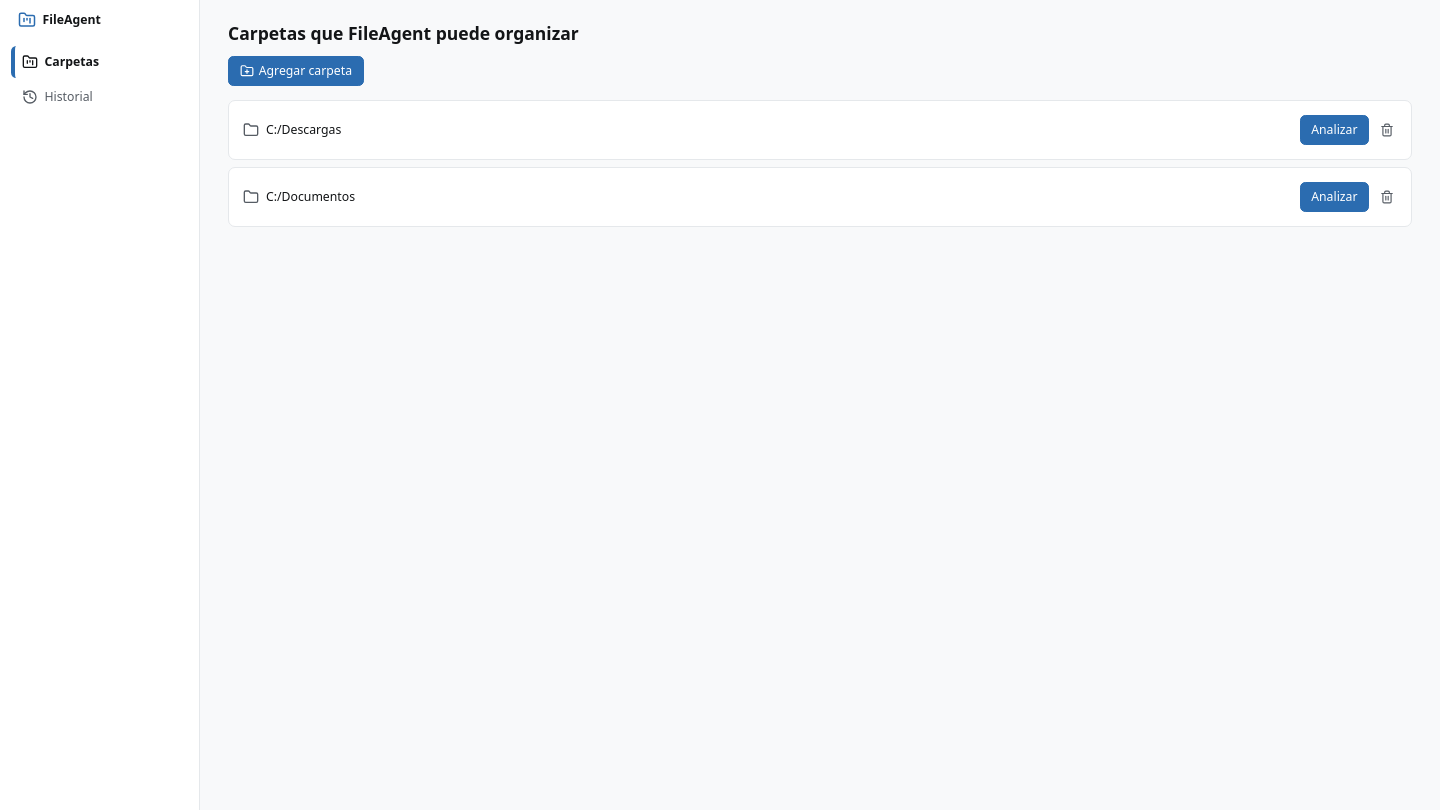
Test case: App -- Undo retained-completion lifecycle (FA-017.5) › a retained Undo notice for batch A does not affect batch B's own state while viewing it
The image size is (1440, 810).
What coordinates should you click on to do the following:
click the button "Historial"
I would click on:
 (100, 97)
Its box is [10, 81, 188, 112].
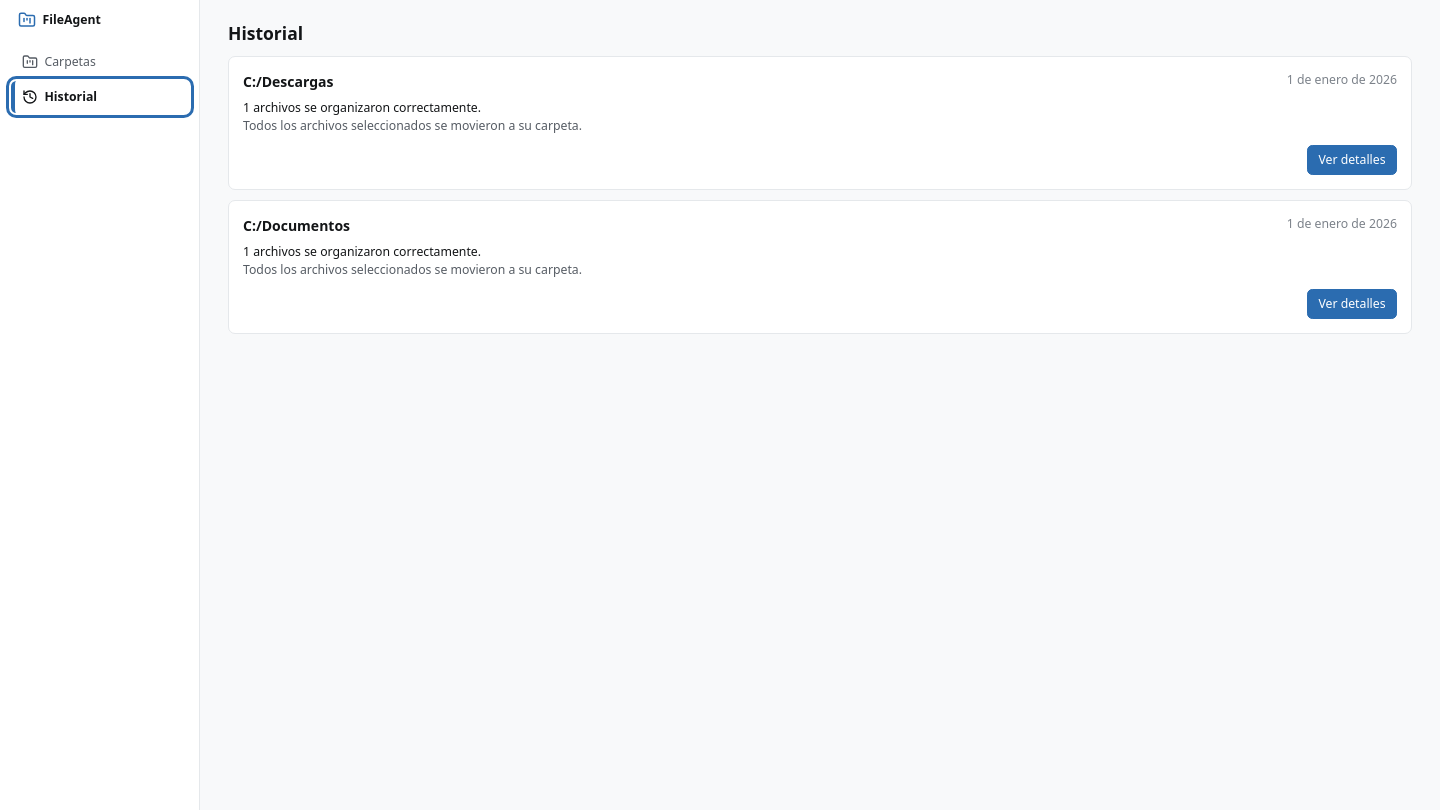
Now the heading "Historial" is shown, box [228, 21, 303, 45]
What coordinates should you click on to do the following:
click the 1st button "Ver detalles"
I would click on:
 (1352, 160)
Its box is [1307, 144, 1397, 174].
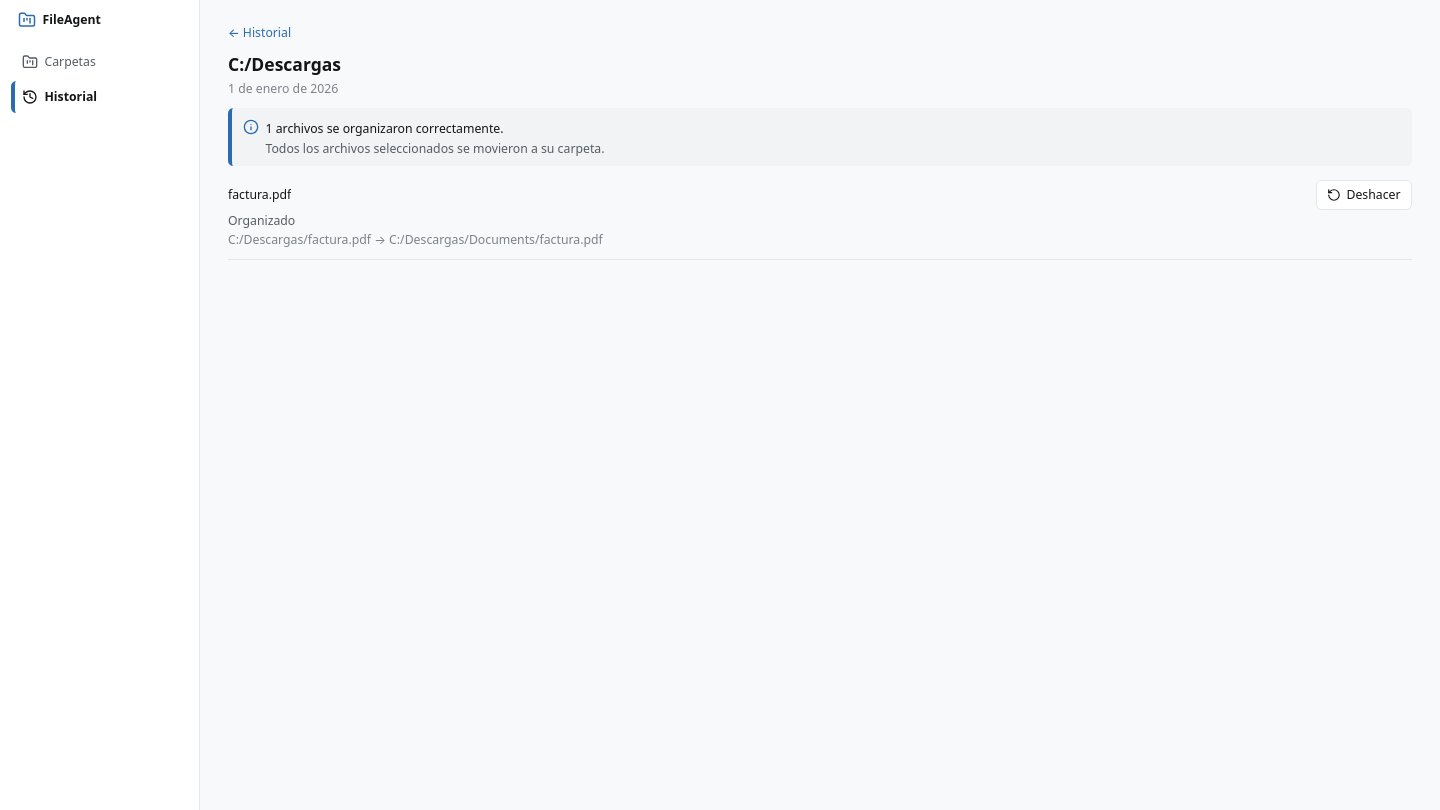
What coordinates should you click on to do the following:
click the button "Deshacer"
I would click on:
 (1364, 195)
Its box is [1316, 180, 1412, 210].
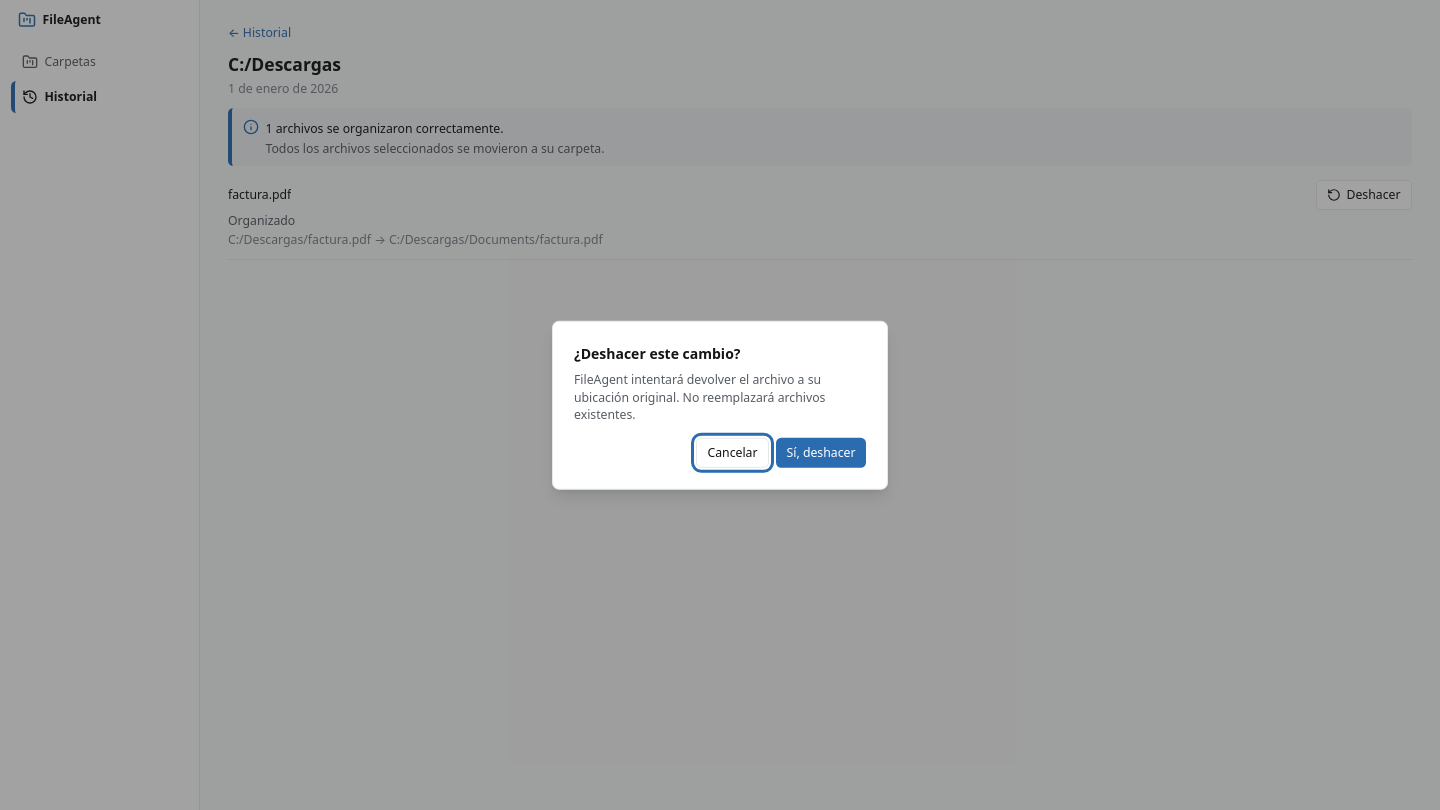
What coordinates should you click on to do the following:
click the button "Sí, deshacer"
I would click on:
 (821, 452)
Its box is [776, 437, 866, 467].
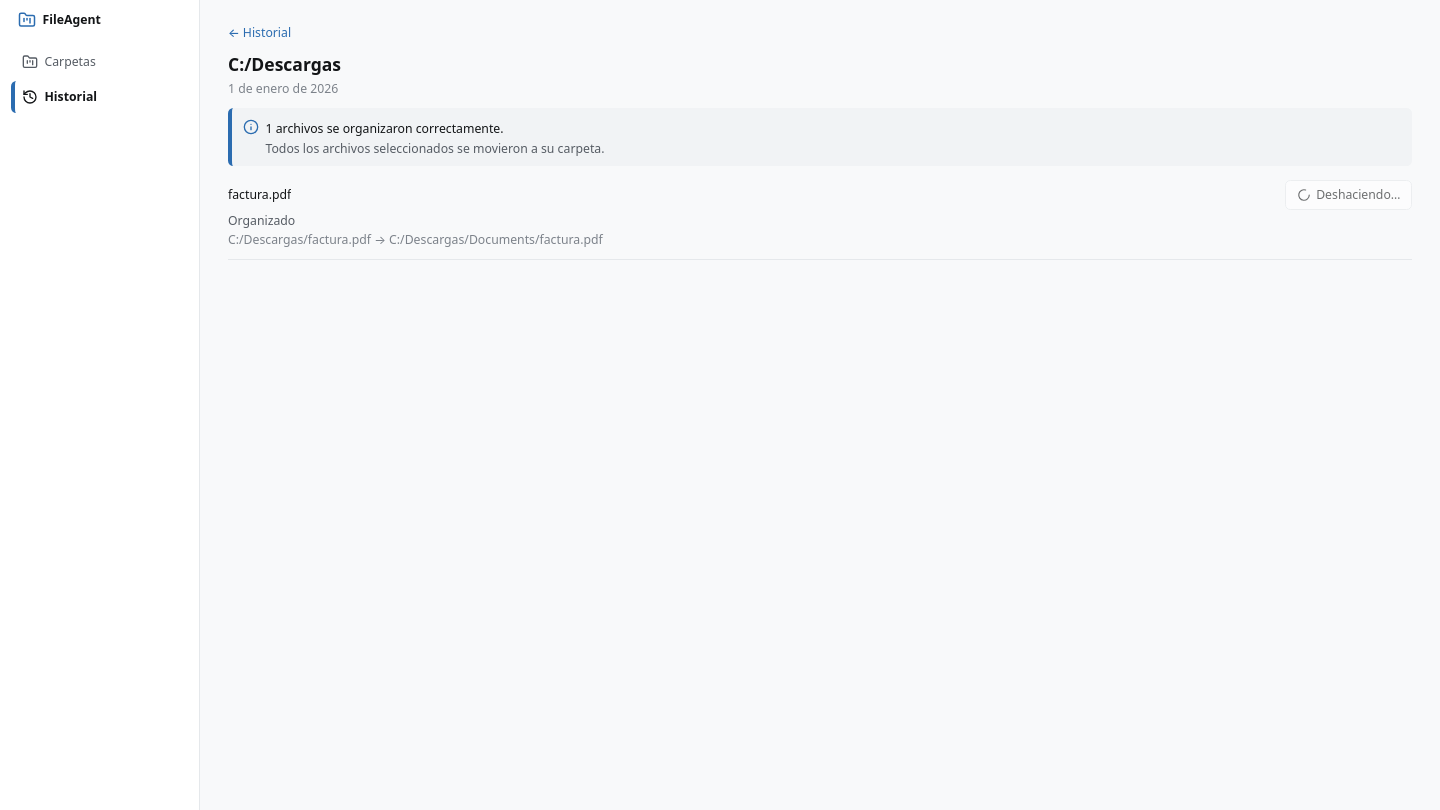
What coordinates should you click on to do the following:
click the button "← Historial"
I would click on:
 (260, 33)
Its box is [228, 24, 291, 42].
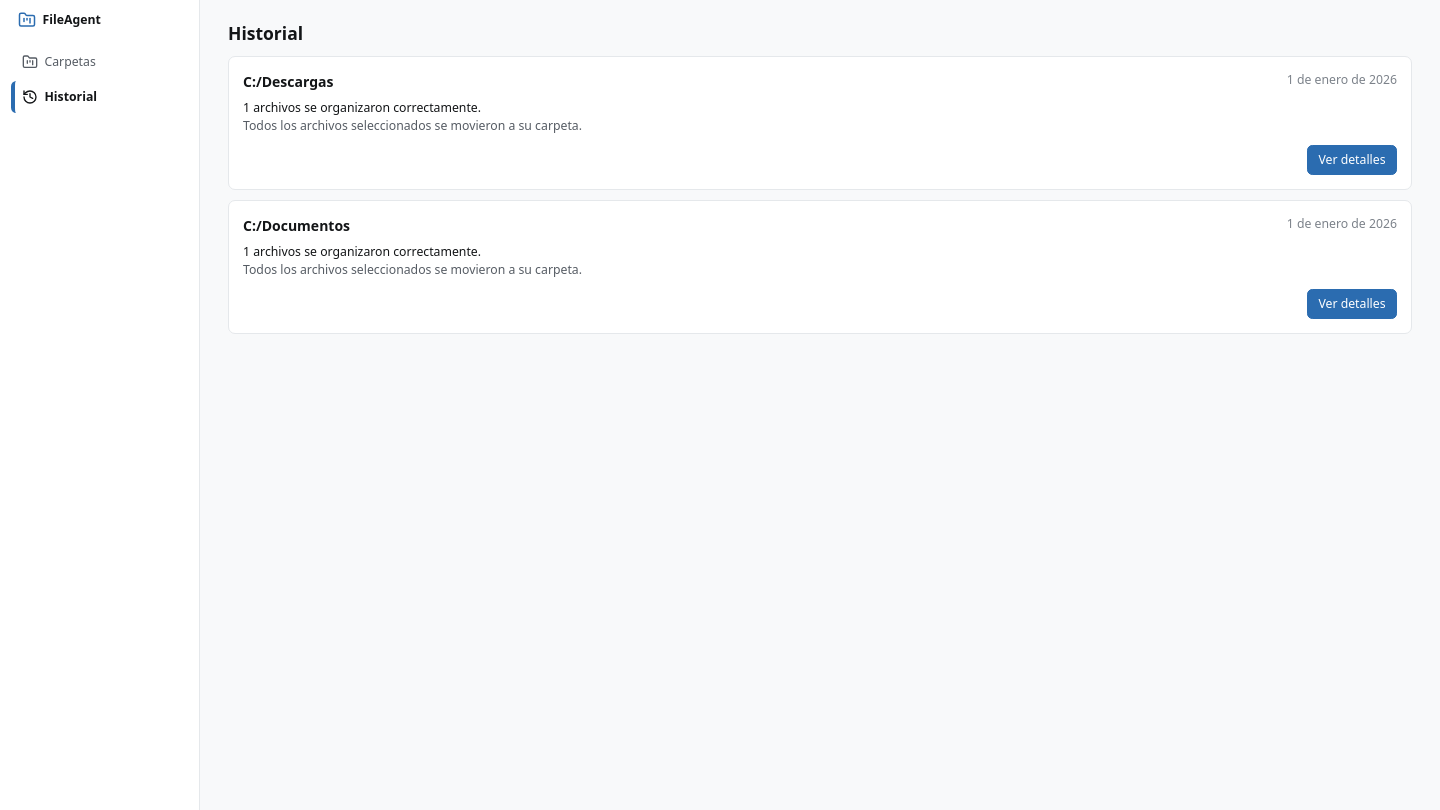
What coordinates should you click on to do the following:
click the 2nd button "Ver detalles"
I would click on:
 (1352, 304)
Its box is [1307, 288, 1397, 318].
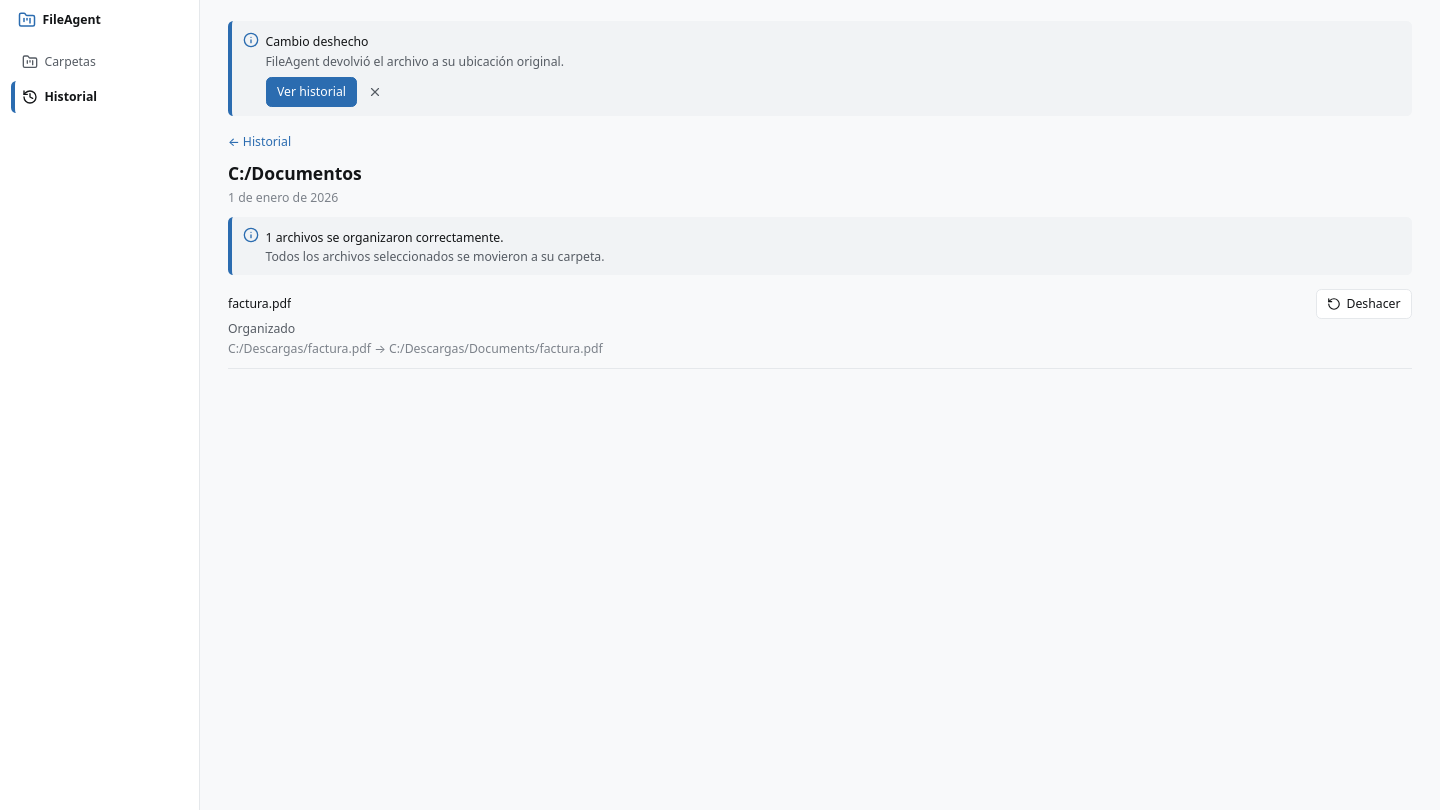
Now the element named "Avisos de organización" is shown, box [228, 21, 1412, 116]
Now the text "factura.pdf" is shown, box [228, 295, 291, 312]
Now the button "Deshacer" is shown, box [1316, 288, 1412, 318]
